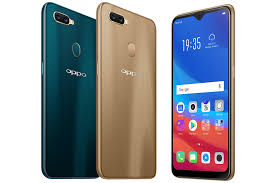oppo: (167, 4, 237, 180), (92, 1, 159, 181), (41, 2, 100, 178)
